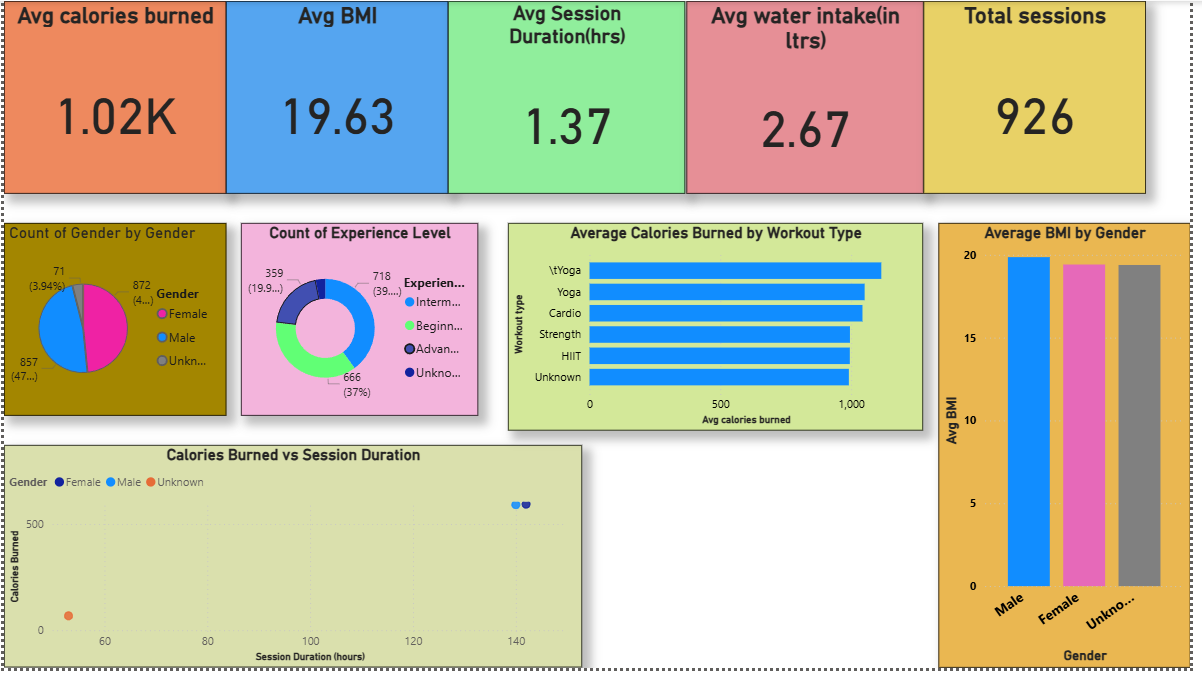

What the dashboard file says about the page in this screenshot:
{"tool":"powerbi","page":{"name":"Page 1","canvas":[1280,720],"ordinal":0},"visuals":[{"type":"card","title":"Avg calories burned","fields":{"Values":["Avg(Fitness dataset.Calories_Burned)"]},"box":[0,0,240,208],"z":0},{"type":"card","title":"Avg BMI","fields":{"Values":["Avg(Fitness dataset.BMI)"]},"box":[240,0,240,208],"z":1000},{"type":"card","title":"Avg Session Duration(hrs)","fields":{"Values":["Avg(Fitness dataset.Session_Duration_hours)"]},"box":[480,0,256,208],"z":2000},{"type":"card","title":"Avg water intake(in ltrs)","fields":{"Values":["Avg(Fitness dataset.Water_Intake_liters)"]},"box":[736,0,256,208],"z":3000},{"type":"card","title":"Total sessions","fields":{"Values":["Count(Fitness dataset.Calories_Burned)"]},"box":[992,0,240,208],"z":4000},{"type":"pieChart","fields":{"Category":["Fitness dataset.Gender"],"Y":["CountNonNull(Fitness dataset.Gender)"]},"box":[0,240,240,208],"z":5000},{"type":"donutChart","title":"Count of Experience Level","fields":{"Category":["Fitness dataset.Experience_Level"],"Y":["CountNonNull(Fitness dataset.Experience_Level)"]},"box":[256,240,256,208],"z":6000},{"type":"scatterChart","title":"Calories Burned vs Session Duration","fields":{"X":["Count(Fitness dataset.Session_Duration_hours)"],"Y":["Count(Fitness dataset.Calories_Burned)"],"Category":["Fitness dataset.Gender"],"Series":["Fitness dataset.Gender"]},"box":[0,480,624,240],"z":7000},{"type":"barChart","title":"Average Calories Burned by Workout Type","fields":{"Category":["Fitness dataset.Workout_Type"],"Y":["Avg(Fitness dataset.Calories_Burned)"]},"box":[544,240,448,224],"z":8000},{"type":"clusteredColumnChart","title":"Average BMI by Gender","fields":{"Category":["Fitness dataset.Gender"],"Y":["Avg(Fitness dataset.BMI)"]},"box":[1008,240,272,480],"z":9000}]}

Visuals, with their boxes in screenshot pixels (x1, y1, x2, y2), scaled from the page's 1280x720 canvas onto the 1202x674 screenshot:
"Avg calories burned" card: l=0, t=0, r=225, b=195
"Avg BMI" card: l=225, t=0, r=451, b=195
"Avg Session Duration(hrs)" card: l=451, t=0, r=691, b=195
"Avg water intake(in ltrs)" card: l=691, t=0, r=932, b=195
"Total sessions" card: l=932, t=0, r=1157, b=195
pieChart - Fitness dataset.Gender x CountNonNull(Fitness dataset.Gender): l=0, t=225, r=225, b=419
"Count of Experience Level" donutChart: l=240, t=225, r=481, b=419
"Calories Burned vs Session Duration" scatterChart: l=0, t=449, r=586, b=673
"Average Calories Burned by Workout Type" barChart: l=511, t=225, r=932, b=434
"Average BMI by Gender" clusteredColumnChart: l=947, t=225, r=1201, b=673
